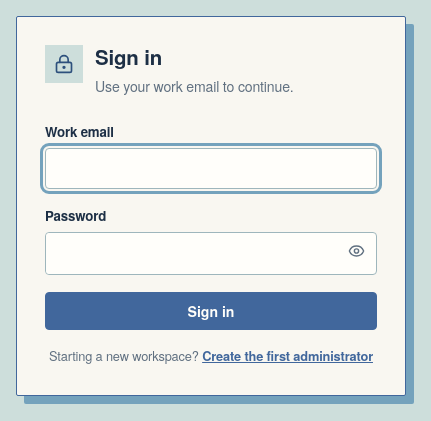
Scenario: Dayflow application › enforces first-login password change
Type "first@example.test" into the field labelled "Work email" at (211, 168), box x1=45 y1=148 x2=377 y2=189
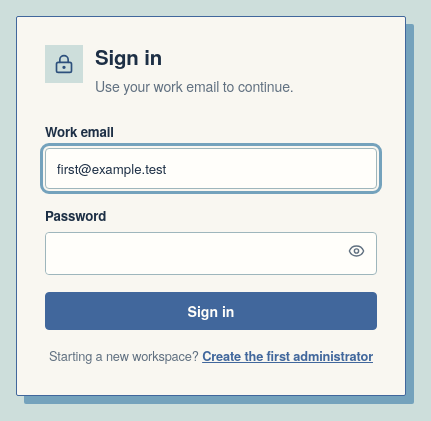
Type "TestPassword123!" into the password field labelled "Password" at (192, 253), box x1=46 y1=233 x2=338 y2=274
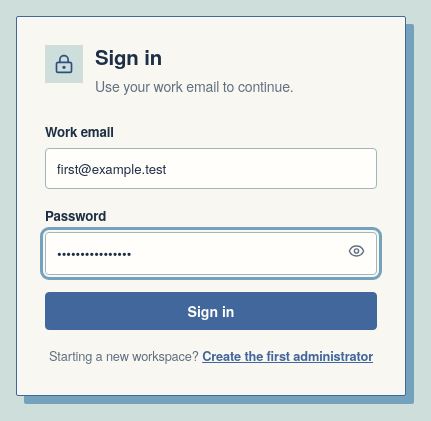
Click the button "Sign in" at (211, 311), box x1=45 y1=292 x2=377 y2=330
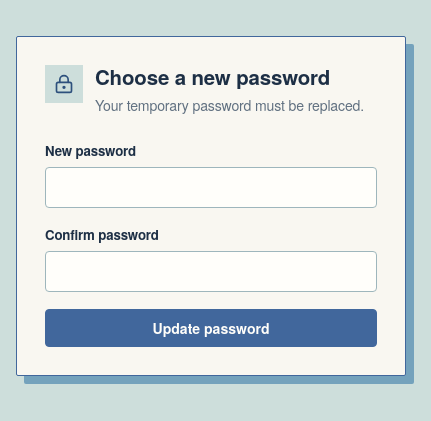
Expected: the heading "Choose a new password" is shown, x1=95 y1=65 x2=364 y2=89
